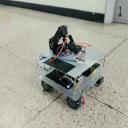cart: (36, 44, 106, 110)
